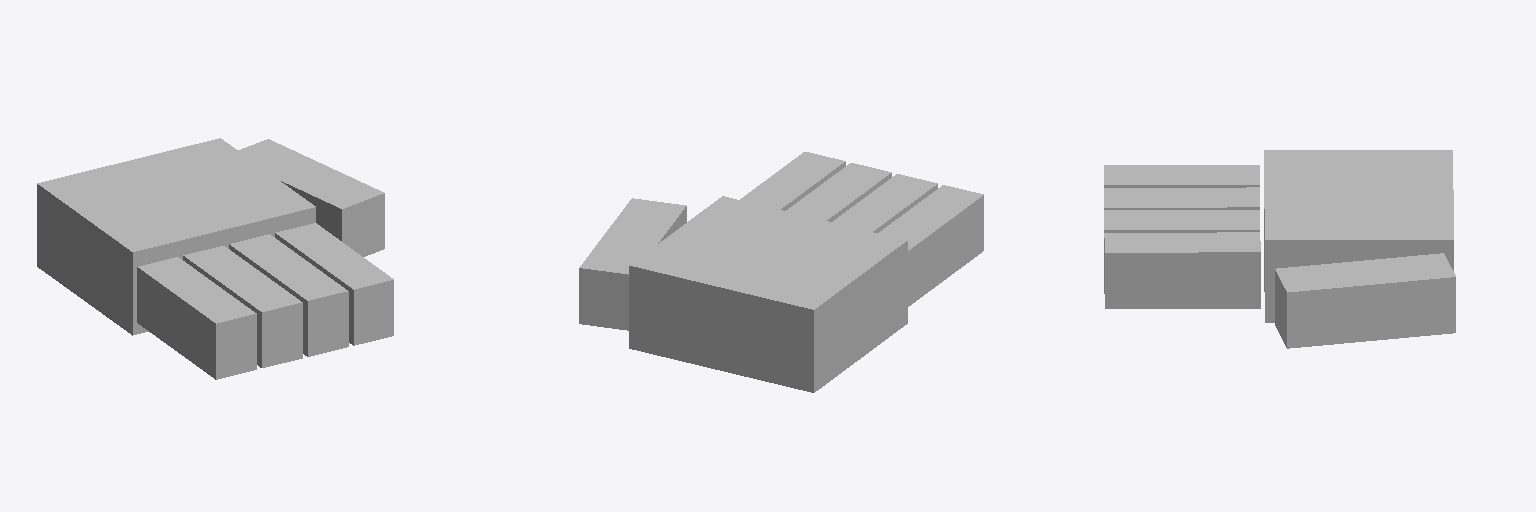
Rendered from player.obj.
3 renders of one model, left to right at view 1: azimuth 30°, elevation 25°; view 2: azimuth 150°, elevation 25°; view 3: azimuth 270°, elevation 25°, orthographic.
Visible parts, largest first — view 1: 立方体; view 2: 立方体; view 3: 立方体.
Boxes of the visible parts, box(x1,y1,x2,y2) form: 立方体: box(37, 138, 393, 379); 立方体: box(579, 152, 983, 392); 立方体: box(1104, 150, 1455, 348).
Bounding box in the file's own units: 2.24 × 0.6722 × 2.58.